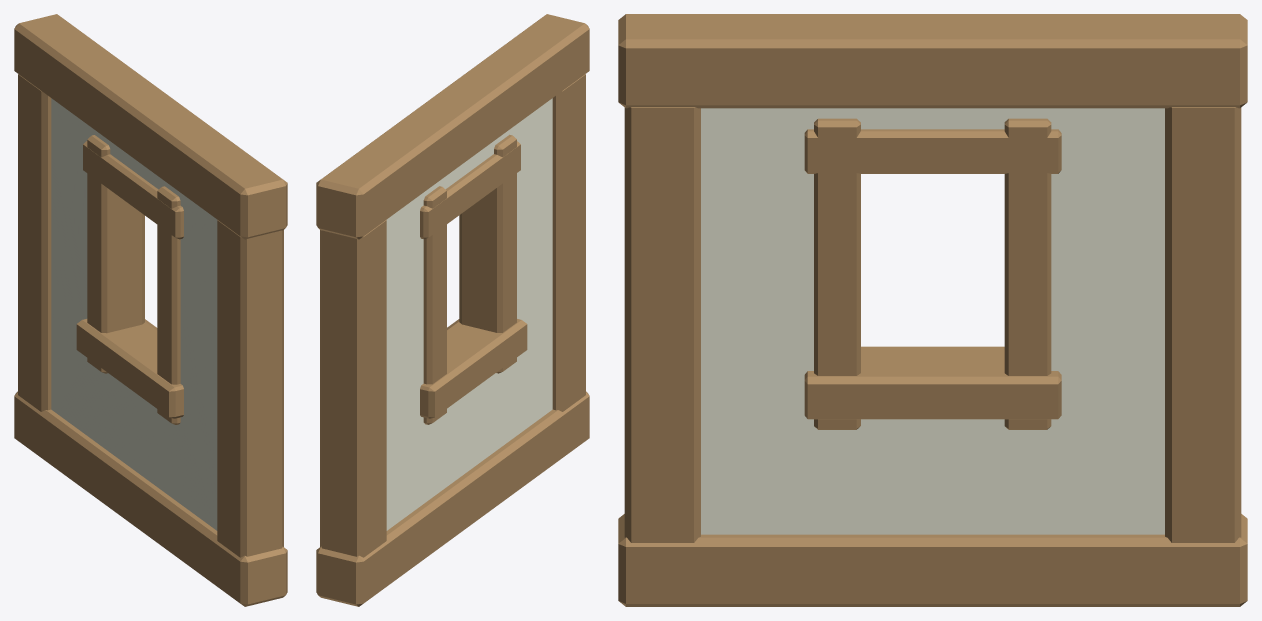
Rendered from WallWithWindow_2.fbx.
3 views of the same model, side by side, from view 1: azimuth 30°, elevation 25°; view 2: azimuth 150°, elevation 25°; view 3: azimuth 270°, elevation 25° (orthographic). The views are drawn at different scales.
Parts seen in each view (by area): view 1: WallWithWindow_2; view 2: WallWithWindow_2; view 3: WallWithWindow_2.
Part boxes in pixels (x1,y1,x2,y2): WallWithWindow_2: (14, 14, 287, 606); WallWithWindow_2: (316, 14, 589, 606); WallWithWindow_2: (618, 14, 1247, 606).
Size of the model in its own units: 0.3279 by 2.32 by 2.33.
